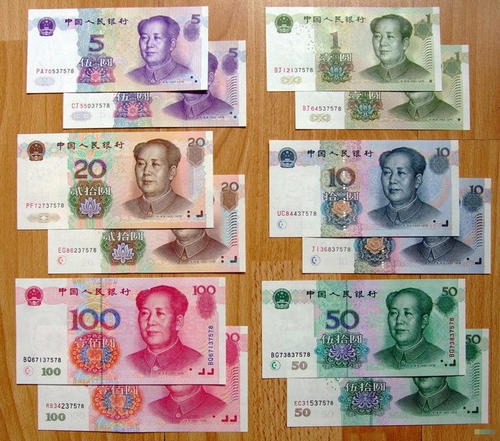rmb: (14, 280, 226, 385), (261, 280, 467, 376), (269, 139, 461, 238), (16, 135, 211, 228), (266, 5, 442, 92), (27, 8, 207, 91)
